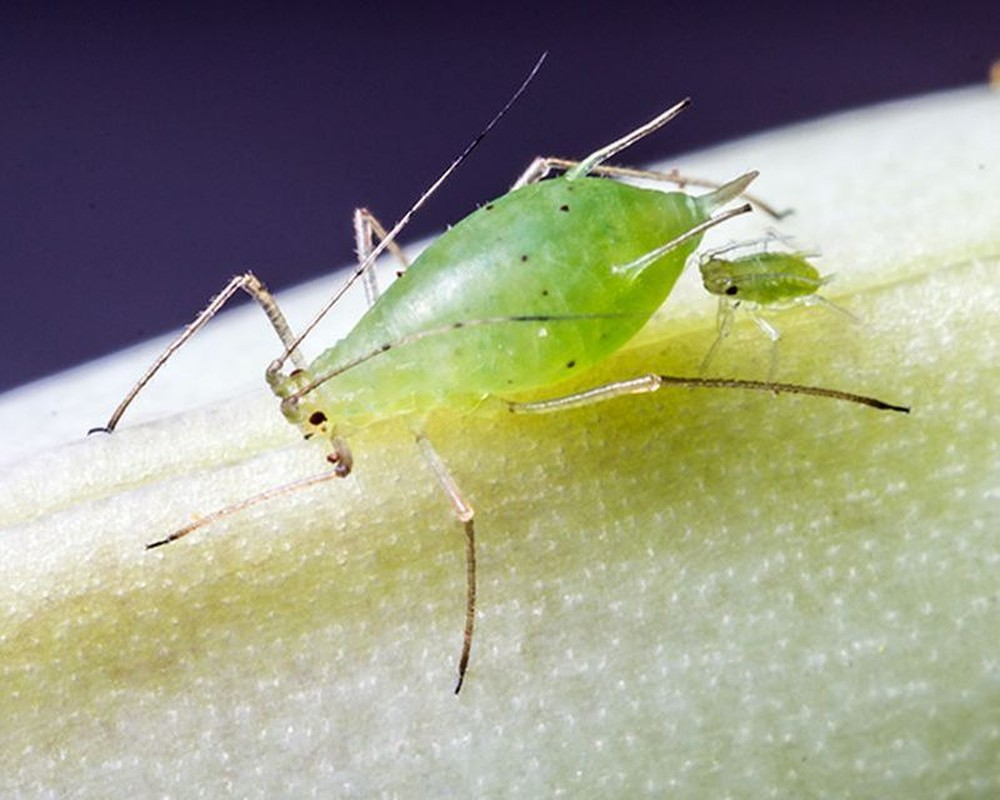Pulgon: (141, 104, 852, 650), (673, 223, 872, 353)
